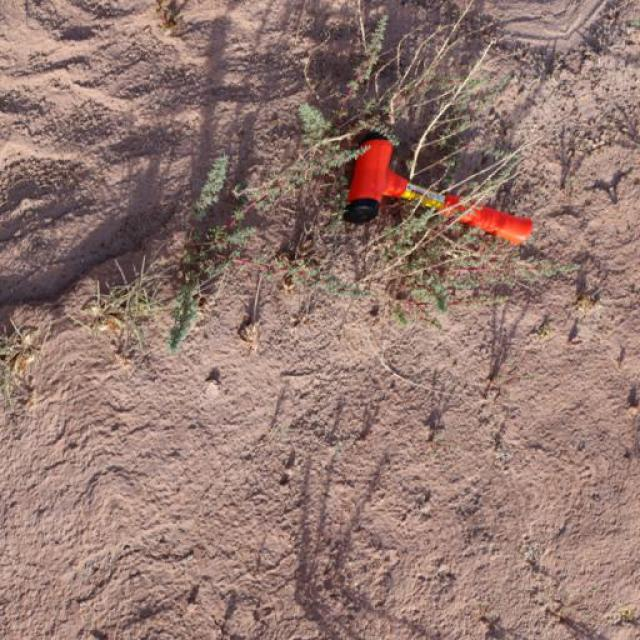mallet: (340, 130, 532, 246)
